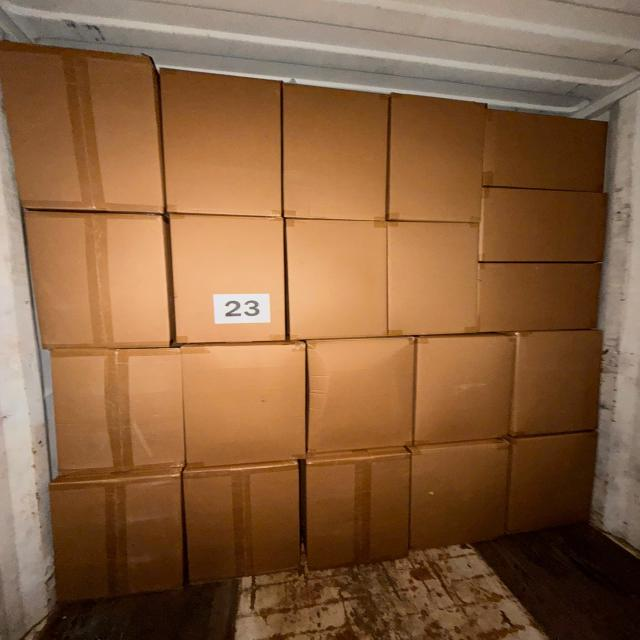Carton: (0, 40, 165, 215), (21, 209, 173, 348), (157, 68, 283, 218), (39, 348, 189, 474), (50, 478, 182, 604), (279, 81, 389, 222), (180, 346, 308, 466), (171, 217, 288, 343), (181, 462, 301, 584), (386, 92, 484, 223), (306, 338, 414, 456), (287, 218, 389, 342), (307, 452, 409, 572), (482, 106, 617, 192), (411, 441, 507, 557), (414, 332, 514, 443), (390, 220, 478, 338), (512, 328, 604, 437), (482, 186, 609, 262), (476, 260, 606, 332), (511, 434, 593, 544)
